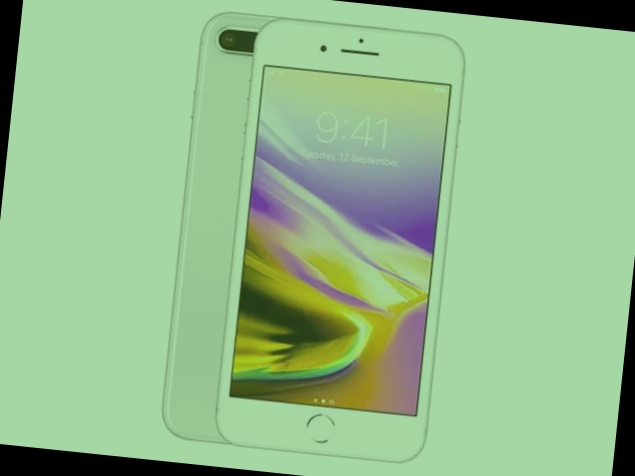iphone: (233, 22, 448, 454)
